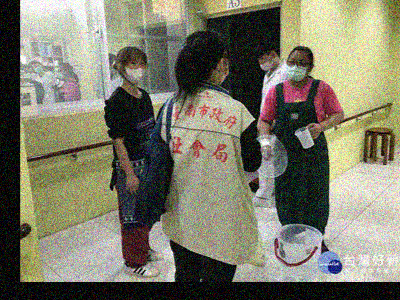mask_weared_incorrect: (257, 54, 275, 70)
with_mask: (121, 57, 148, 82), (287, 55, 310, 80), (215, 51, 230, 84), (21, 68, 34, 80), (57, 68, 68, 81), (33, 63, 45, 73)
